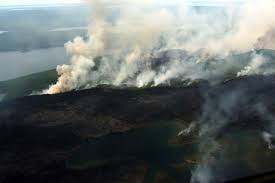fire: (31, 83, 67, 100)
